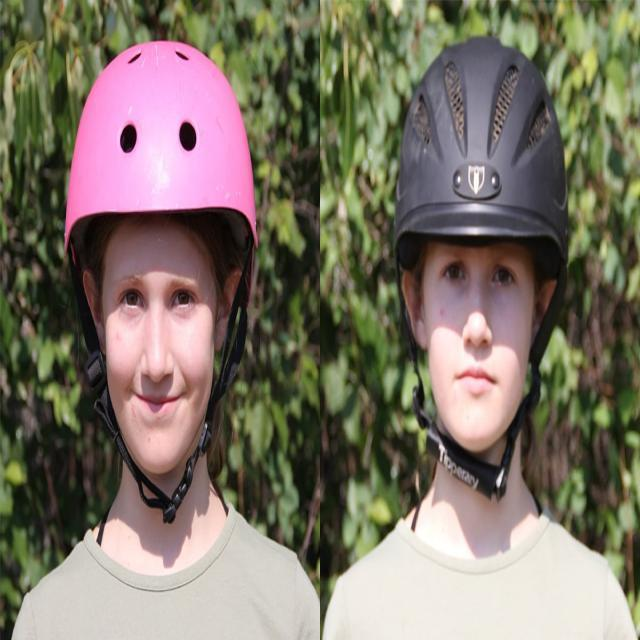helmet: (64, 40, 262, 526), (388, 32, 574, 504)
